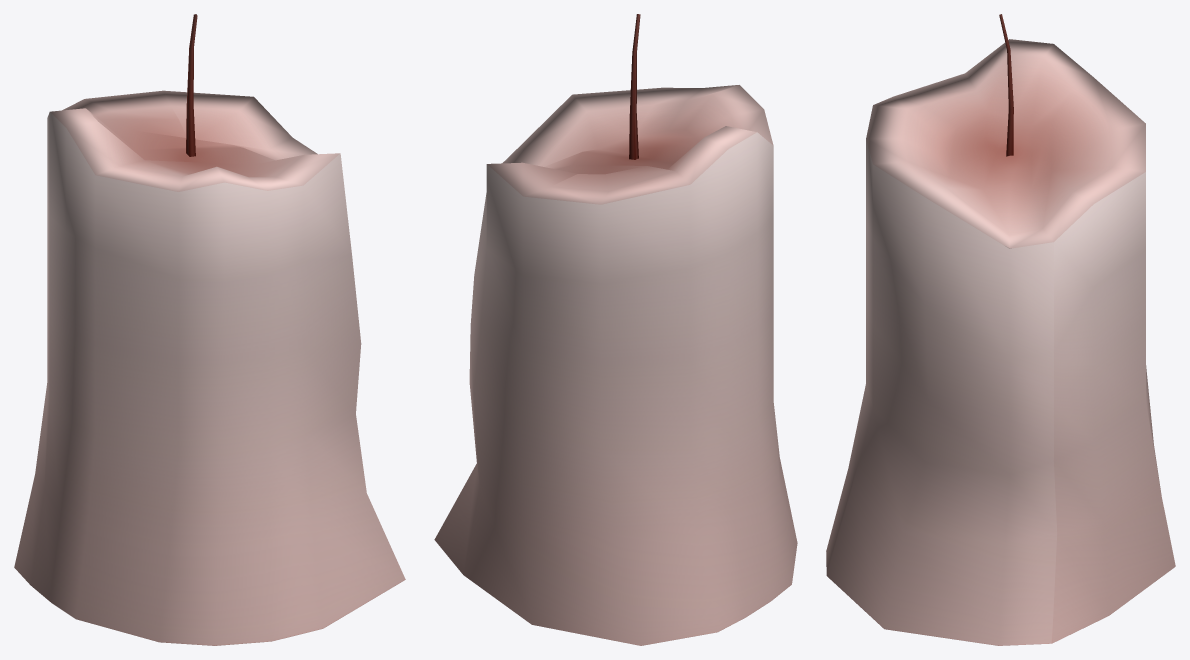
File: Candle.fbx
3 views of the same model, side by side, from view 1: azimuth 30°, elevation 25°; view 2: azimuth 150°, elevation 25°; view 3: azimuth 270°, elevation 25° (orthographic). The views are drawn at different scales.
Parts seen in each view (by area): view 1: Candle; view 2: Candle; view 3: Candle.
Part boxes in pixels (left/top/right/bottom): Candle: left=14, top=14, right=405, bottom=645; Candle: left=434, top=14, right=797, bottom=645; Candle: left=826, top=14, right=1175, bottom=645.
Size of the model in its own units: 9.75 by 16 by 9.33.
